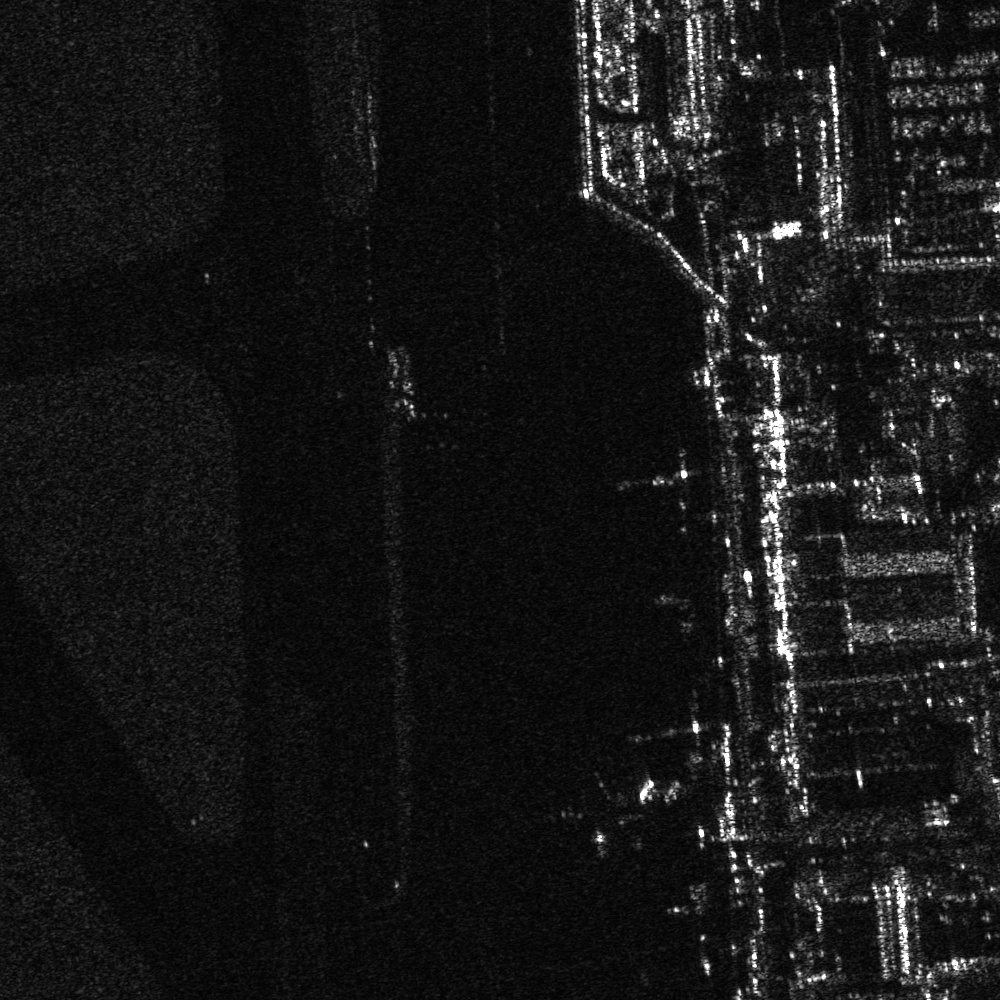A320/321: (629, 691, 718, 758)
other: (611, 434, 713, 531), (550, 773, 649, 854)
